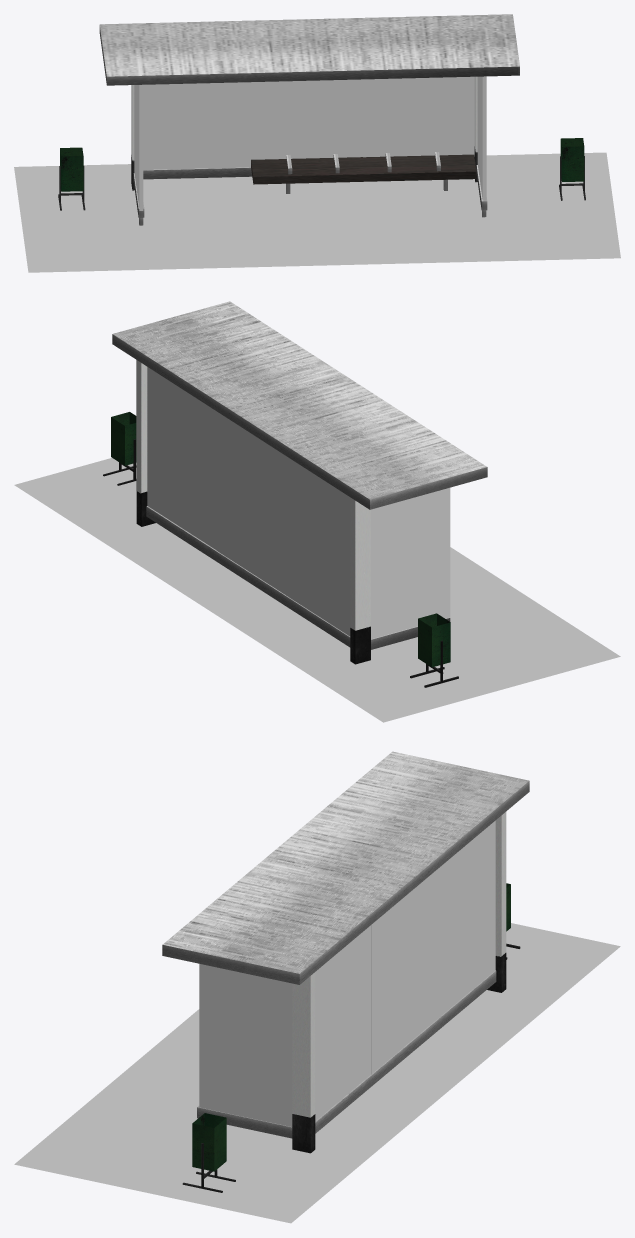
The model's file is Остановка.fbx.
3 renders of one model, top to bottom at view 1: azimuth 30°, elevation 25°; view 2: azimuth 150°, elevation 25°; view 3: azimuth 270°, elevation 25°, orthographic. The views are drawn at different scales.
Parts seen in each view (by area): view 1: Плоскость.001, Куб.024, Куб.010, Куб.021, Куб.020, Куб.025, Куб.022, Куб.023, Куб.017, Куб.045, Куб.009; view 2: Плоскость.001, Куб.024, Куб.022, Куб.020, Куб.021, Куб.010, Куб.018, Куб.017, Куб.019, Куб.009, Куб.045, Куб.013; view 3: Плоскость.001, Куб.024, Куб.023, Куб.010, Куб.020, Куб.021, Куб.019, Куб.017, Куб.045, Куб.018, Куб.016, Куб.014.
Part boxes in pixels (x1,y1,x2,y2): Плоскость.001: (14, 152, 620, 272); Куб.024: (99, 14, 519, 85); Куб.010: (143, 82, 251, 169); Куб.021: (363, 76, 474, 157); Куб.020: (251, 79, 362, 159); Куб.025: (251, 154, 476, 184); Куб.022: (134, 84, 143, 210); Куб.023: (477, 76, 486, 200); Куб.017: (143, 167, 252, 179); Куб.045: (560, 138, 584, 181); Куб.009: (60, 147, 83, 191); Плоскость.001: (14, 458, 620, 722); Куб.024: (112, 301, 487, 509); Куб.022: (371, 487, 450, 639); Куб.020: (216, 411, 285, 594); Куб.021: (147, 367, 216, 549); Куб.010: (286, 456, 350, 636); Куб.018: (350, 497, 370, 630); Куб.017: (146, 506, 350, 647); Куб.019: (136, 360, 147, 493); Куб.009: (418, 613, 450, 667); Куб.045: (111, 412, 136, 465); Куб.013: (350, 626, 370, 664); Плоскость.001: (14, 923, 620, 1223); Куб.024: (162, 751, 529, 984); Куб.023: (199, 964, 292, 1126); Куб.010: (433, 820, 495, 1022); Куб.020: (371, 873, 433, 1074); Куб.021: (315, 925, 370, 1120); Куб.019: (292, 972, 315, 1117); Куб.017: (315, 970, 496, 1133); Куб.045: (192, 1113, 226, 1171); Куб.018: (495, 812, 506, 956); Куб.016: (197, 1106, 292, 1138); Куб.014: (292, 1114, 315, 1153).
Size of the model in its own units: 1553 by 422 by 1186.
